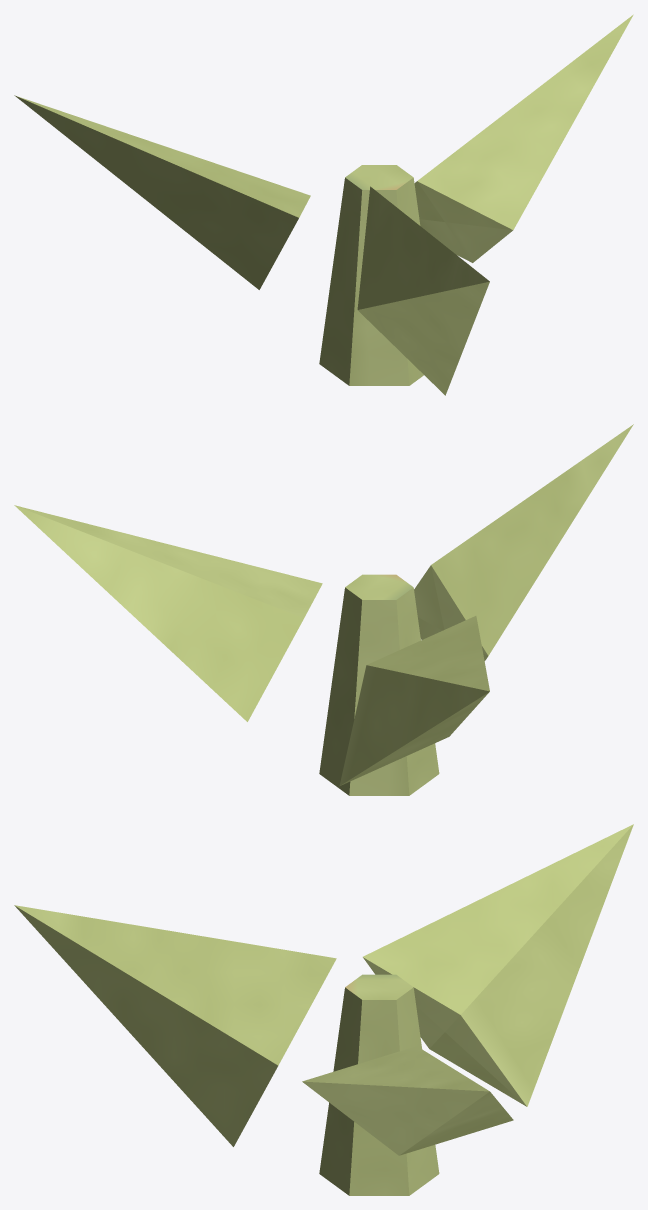
Rendered from sm_crop_pumpkin_2.glb.
3 renders of one model, top to bottom at view 1: azimuth 30°, elevation 25°; view 2: azimuth 150°, elevation 25°; view 3: azimuth 270°, elevation 25°, orthographic.
Visible parts, largest first — view 1: sm_crop_pumpkin_2; view 2: sm_crop_pumpkin_2; view 3: sm_crop_pumpkin_2.
Boxes of the visible parts, left/top/right/bottom form: sm_crop_pumpkin_2: left=14, top=14, right=633, bottom=395; sm_crop_pumpkin_2: left=14, top=424, right=633, bottom=795; sm_crop_pumpkin_2: left=14, top=824, right=633, bottom=1195.
Bounding box in the file's own units: 0.1967 × 0.0802 × 0.1927.
1 material, 1 textured.
